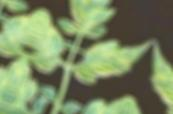Tomato leaf mosaic virus: (70, 14, 156, 102), (1, 37, 66, 114), (22, 0, 85, 78), (52, 0, 129, 47), (58, 71, 134, 114)
